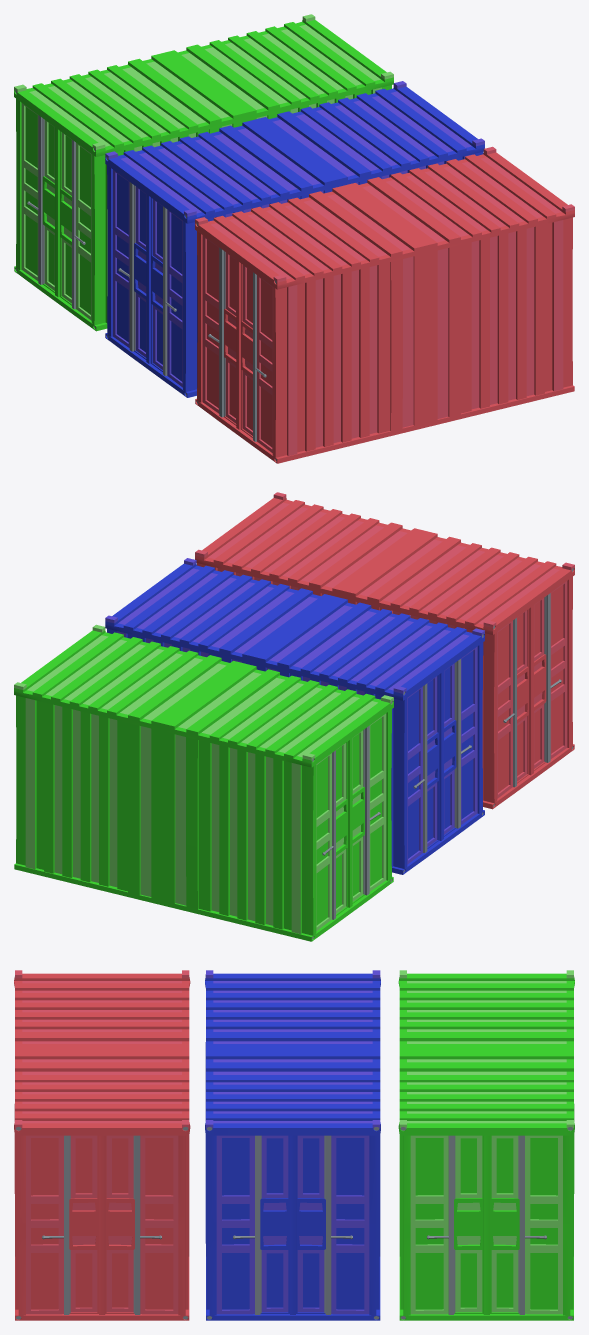
The model's file is containers.fbx.
3 views of the same model, one above another, from view 1: azimuth 30°, elevation 25°; view 2: azimuth 150°, elevation 25°; view 3: azimuth 270°, elevation 25° (orthographic). The views are drawn at different scales.
Parts seen in each view (by area): view 1: ContainerRood, Container.groen, Container.blauw; view 2: Container.groen, Container.blauw, ContainerRood; view 3: Container.blauw, Container.groen, ContainerRood.
Boxes of the visible parts, x1,y1,x2,y2 form: ContainerRood: (195, 146, 574, 463); Container.groen: (14, 14, 393, 331); Container.blauw: (105, 81, 484, 397); Container.groen: (14, 624, 393, 941); Container.blauw: (105, 558, 484, 874); ContainerRood: (195, 492, 574, 809); Container.blauw: (205, 970, 380, 1320); Container.groen: (398, 970, 574, 1320); ContainerRood: (14, 970, 190, 1320).
Size of the model in its own units: 706 by 417 by 1082.
